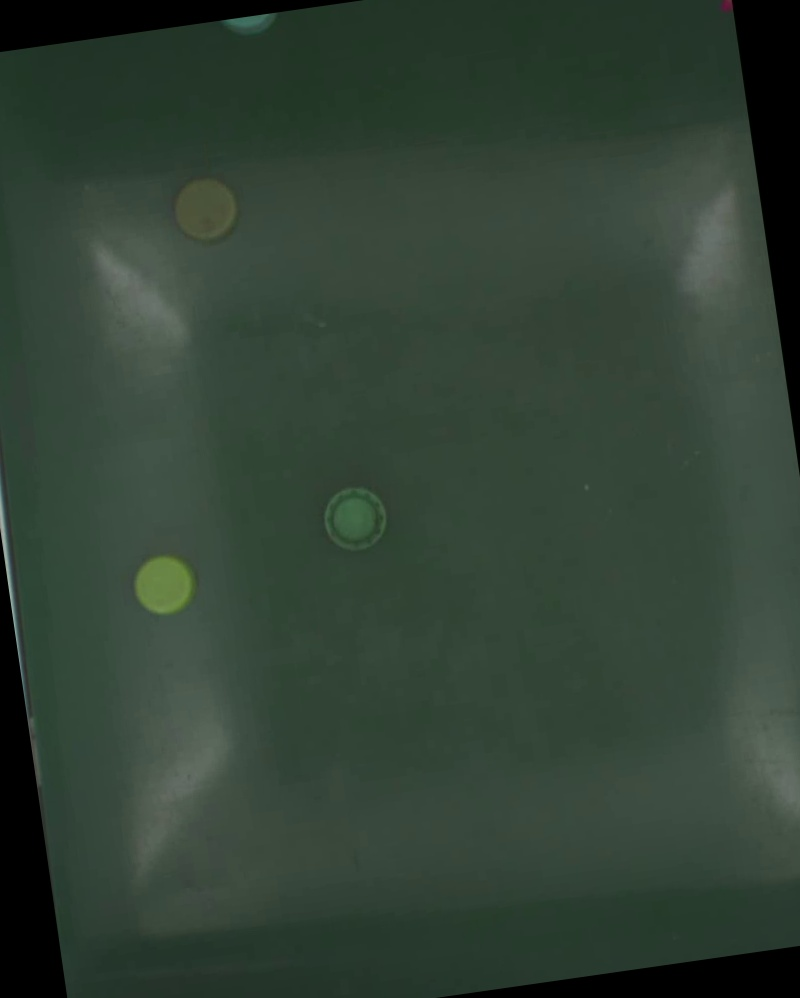Others: (169, 174, 242, 244), (319, 483, 392, 552), (126, 552, 199, 621)
